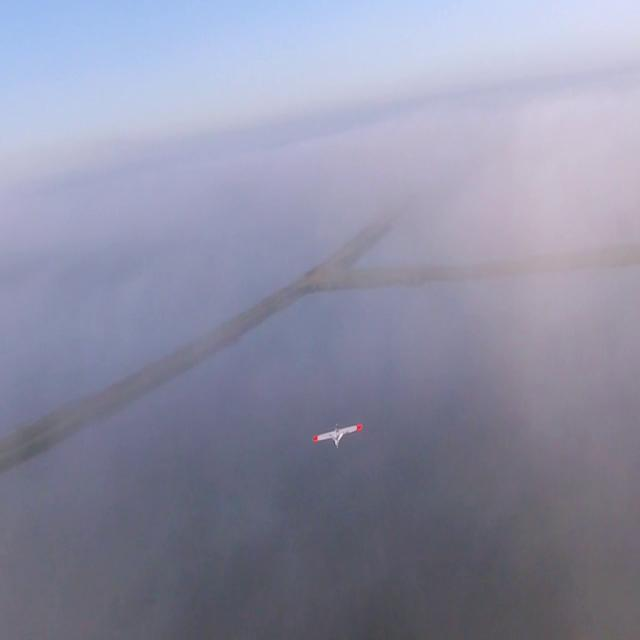iha: (311, 422, 364, 455)
